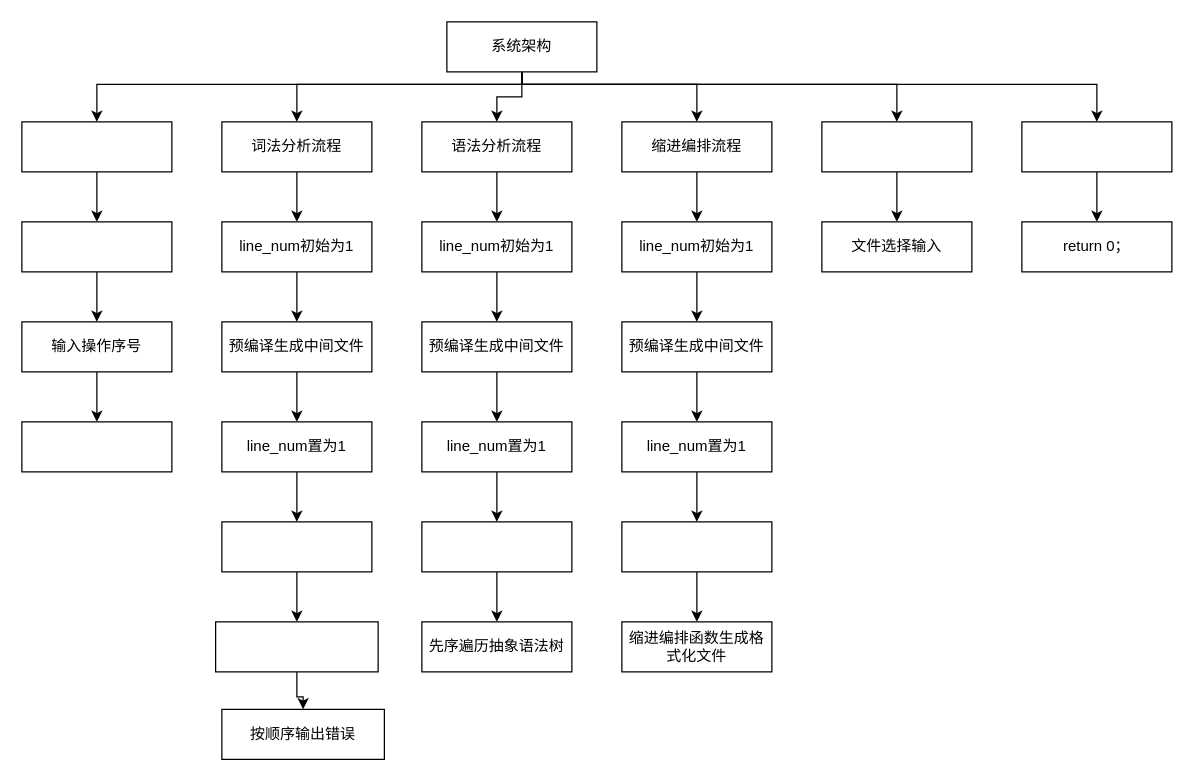
Image size: 1194x781. Some labels were removed from this diagram. Here are the shapes that lost their labels. From the top down, the box of each, then its label:
(21, 121, 172, 172): 文件选择输入流程
(821, 121, 972, 172): 文件选择流程
(1021, 121, 1172, 172): 退出系统流程
(21, 221, 172, 272): 输入待处理文件名称
(21, 421, 172, 472): 进入对应流程
(221, 521, 372, 572): GetToken识别各单词
(421, 521, 572, 572): Program函数构建抽象语法树
(621, 521, 772, 572): Program函数构建缩进处理队列
(214, 621, 378, 672): 识别错误存至数组，其他单词输出类型与值
